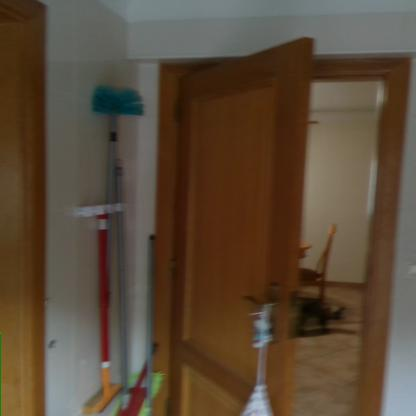semi: (131, 29, 416, 416)
